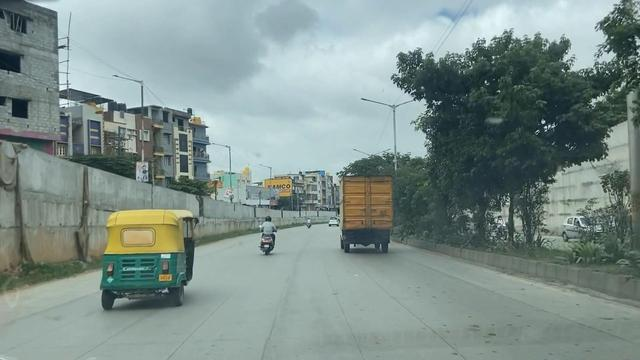HMV: (330, 162, 401, 266)
